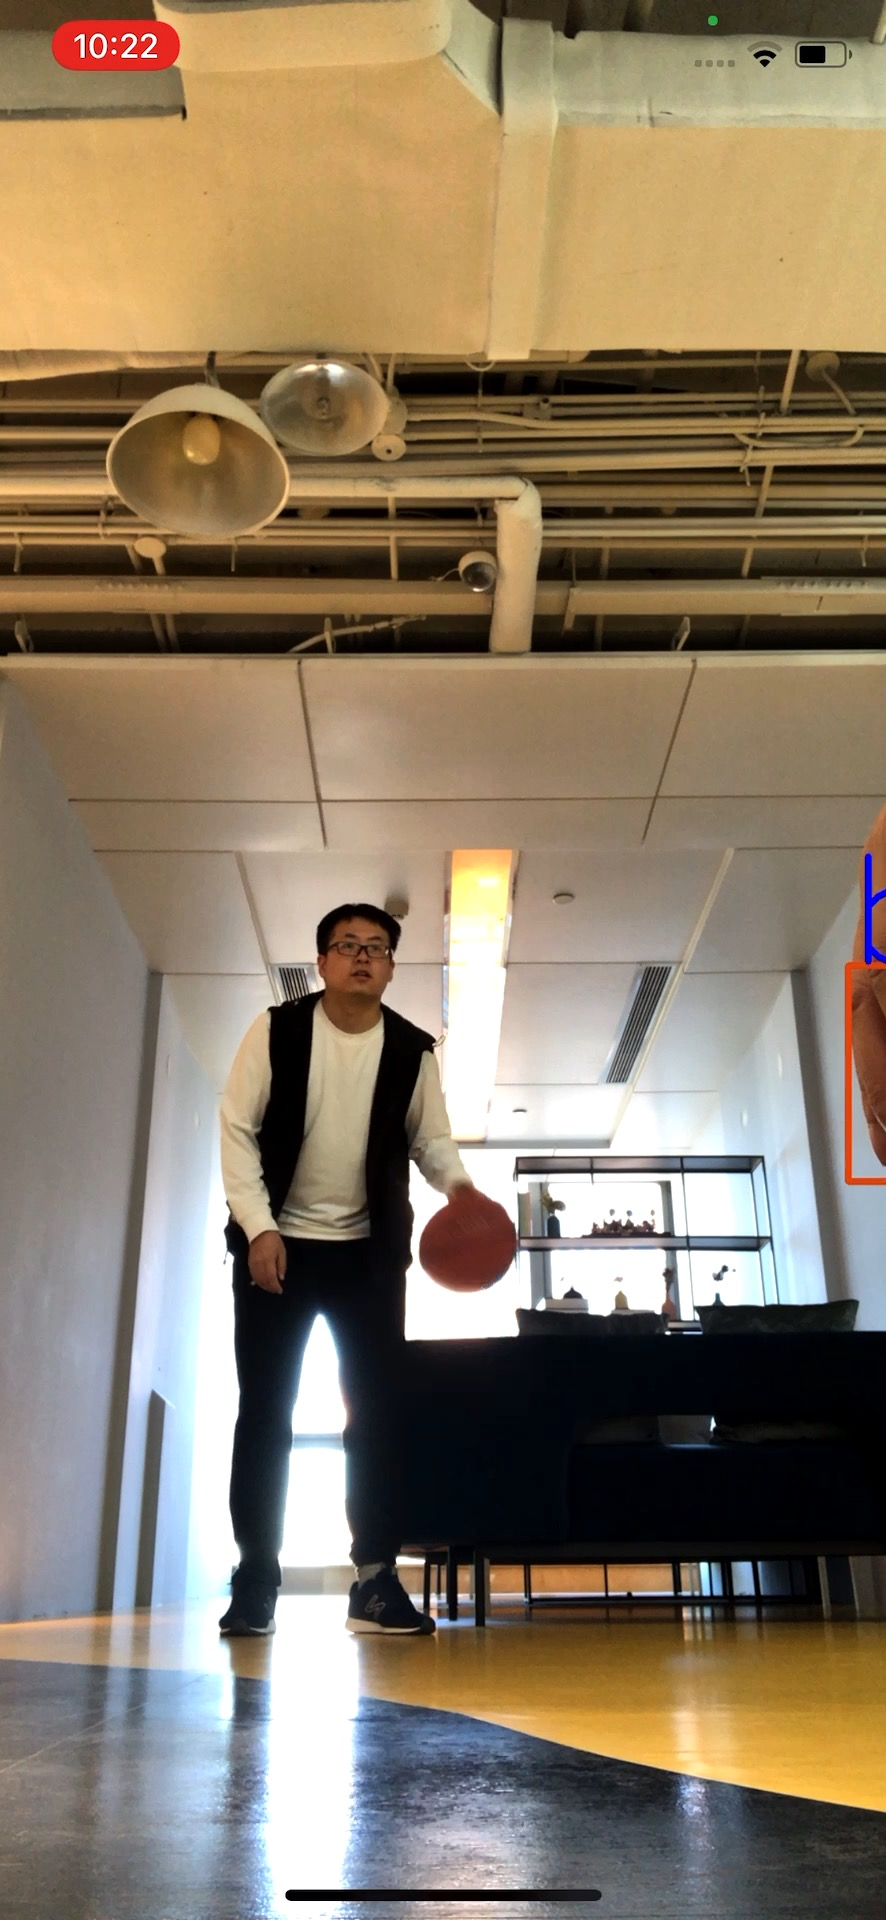ball: (419, 1191, 529, 1292)
